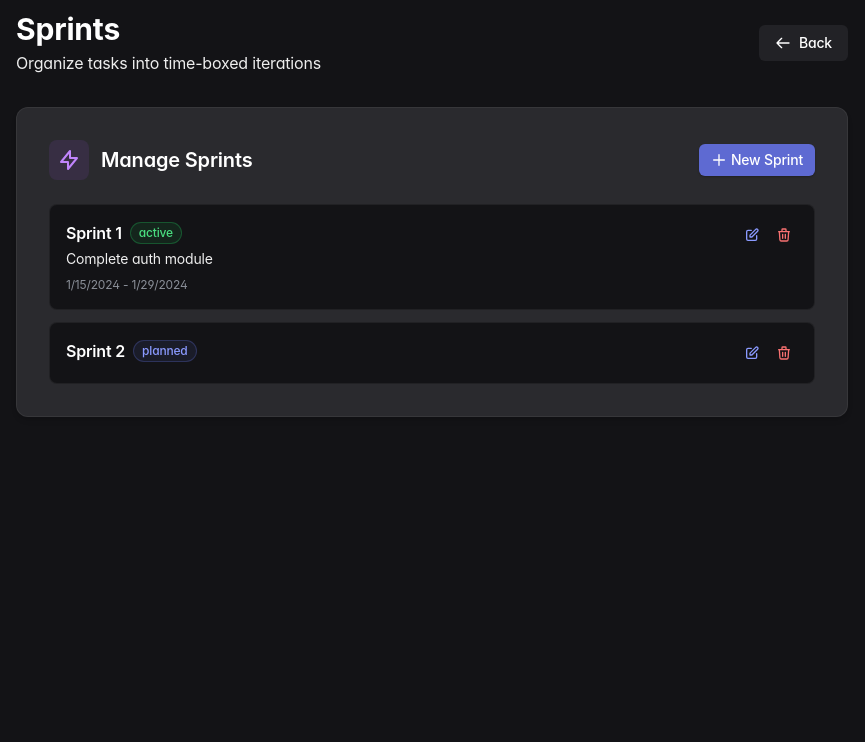
Test: Sprints › opens create form on New Sprint click
Expected: the heading "Sprint 1" is shown, [66,221,122,245]
What coordinates should you click on to do the following:
click the button "New Sprint"
I would click on:
 (757, 160)
Its box is [699,144,815,176].
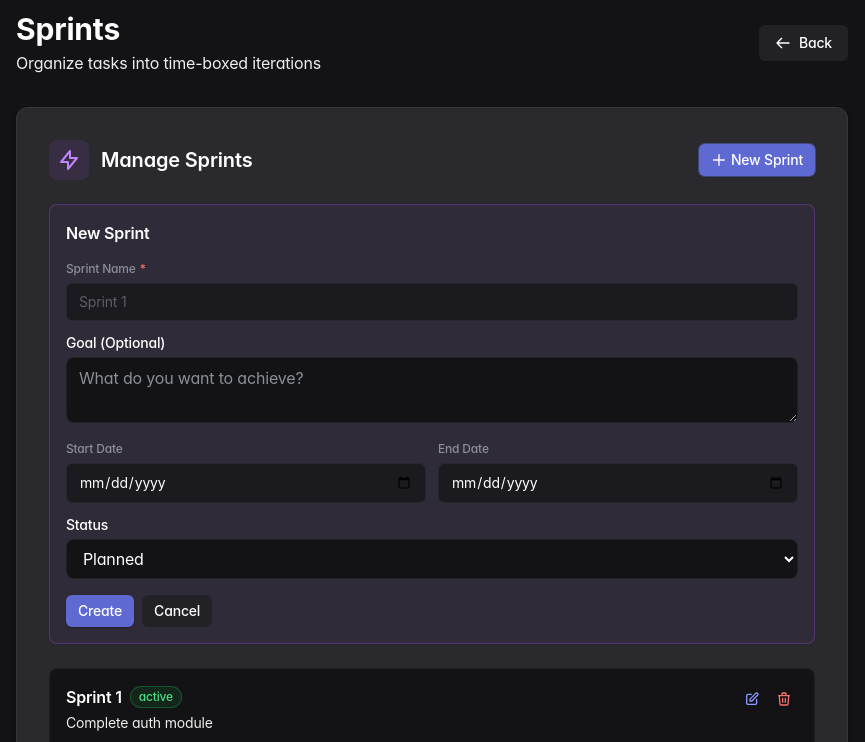
Expected: the heading "New Sprint" is shown, [66,223,150,243]
